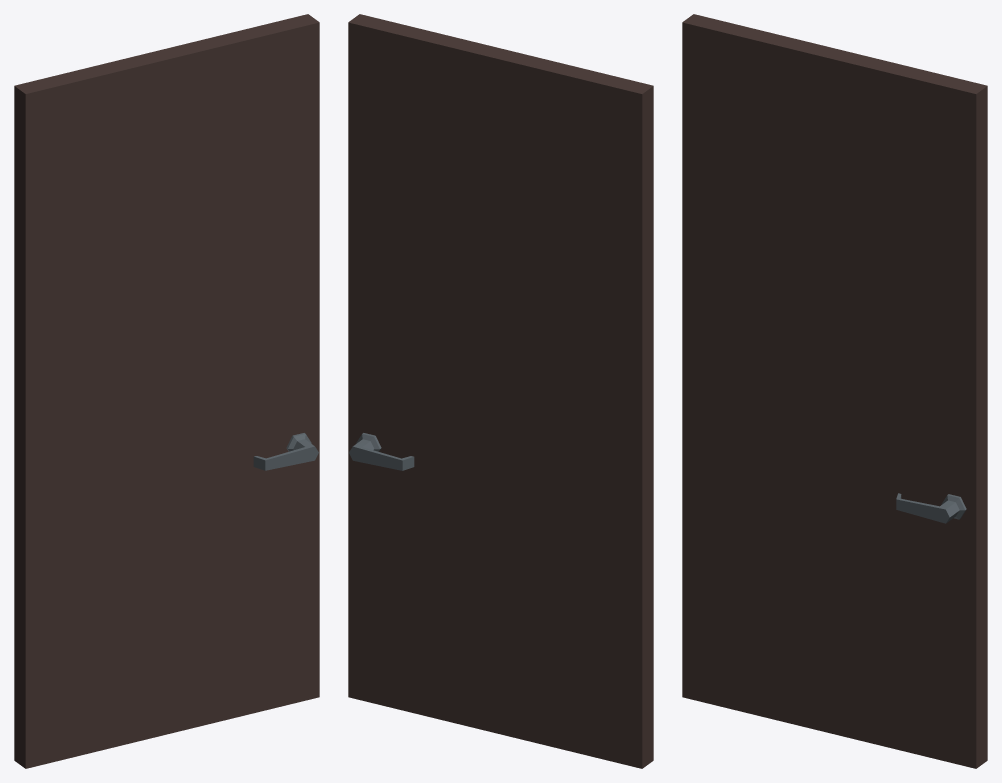
The model's file is SM_Bld_Base_Door_Large_01.obj.
3 views of the same model, side by side, from view 1: azimuth 30°, elevation 25°; view 2: azimuth 150°, elevation 25°; view 3: azimuth 330°, elevation 25° (orthographic).
Parts seen in each view (by area): view 1: SM_Bld_Base_Door_Large_01_0; view 2: SM_Bld_Base_Door_Large_01_0; view 3: SM_Bld_Base_Door_Large_01_0.
Boxes of the visible parts, left/top/right/bottom form: SM_Bld_Base_Door_Large_01_0: left=14, top=14, right=319, bottom=768; SM_Bld_Base_Door_Large_01_0: left=348, top=14, right=653, bottom=768; SM_Bld_Base_Door_Large_01_0: left=682, top=14, right=987, bottom=768.
Bounding box in the file's own units: 1.12 × 2.47 × 0.2473.
1 material, 1 textured.
